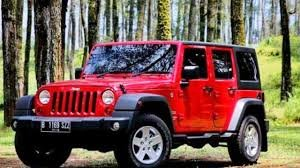mobil: (16, 35, 271, 168)
